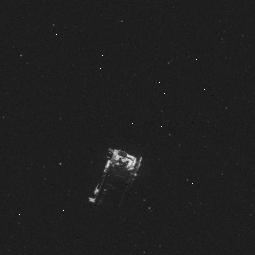lisa_pathfinder: (81, 149, 149, 213)
